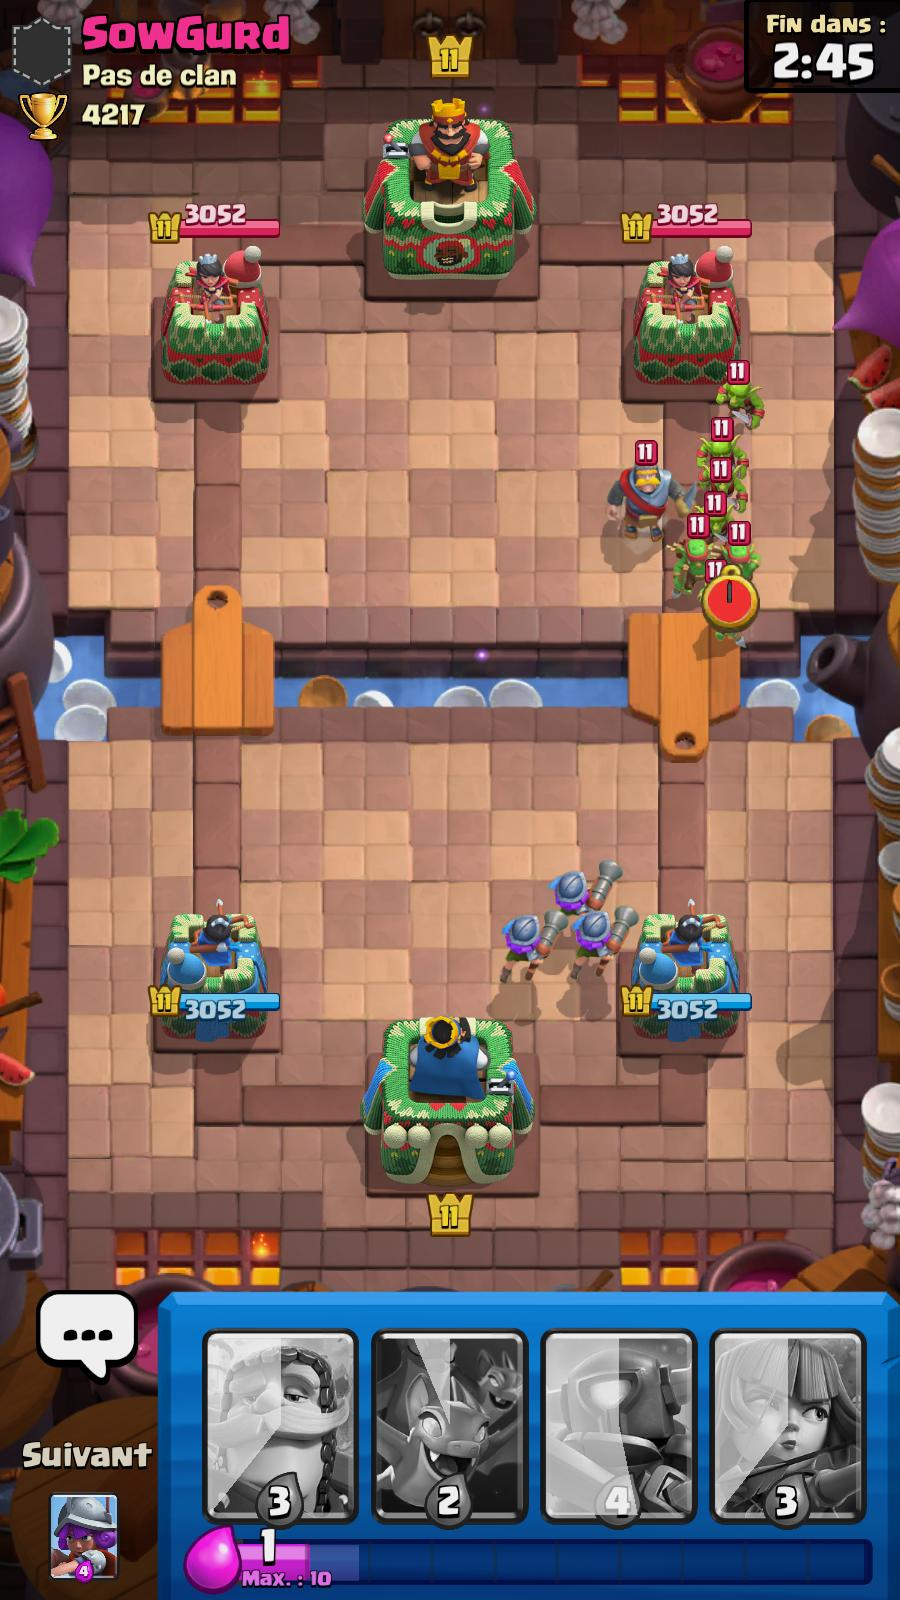chevalier: (611, 440, 697, 544)
gobelin: (699, 419, 748, 479), (722, 360, 764, 429), (697, 466, 746, 522)
gobelin_lances: (674, 515, 716, 590), (720, 522, 762, 579)
mousquetaire: (504, 909, 567, 987), (573, 905, 640, 978), (547, 859, 621, 919)
